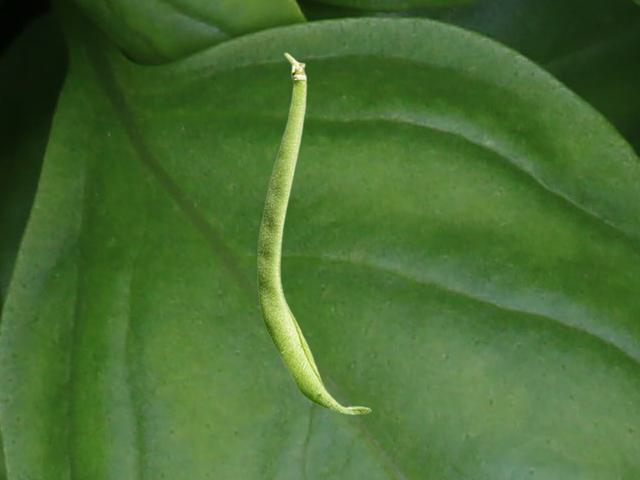french_bean: (257, 52, 371, 414)
